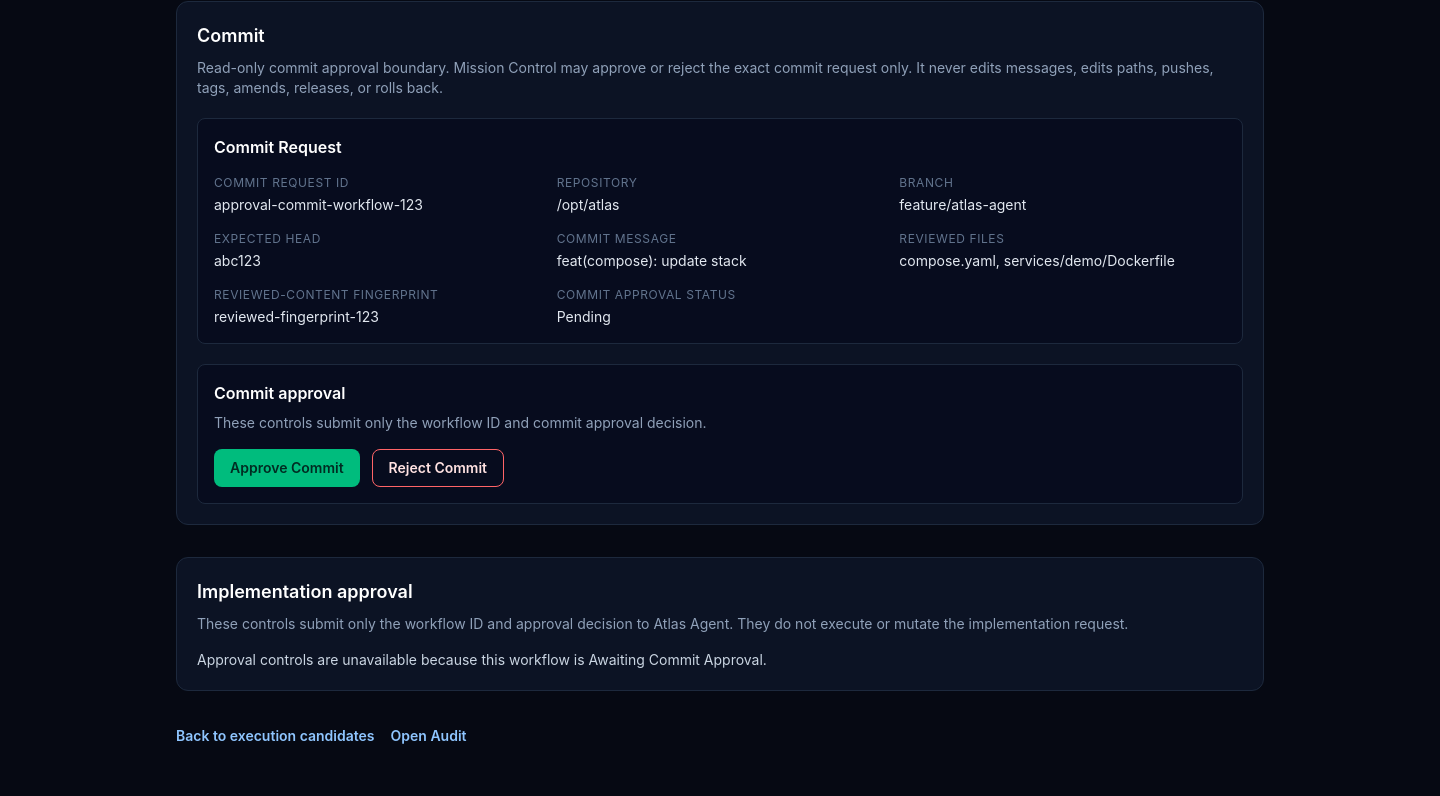
Test: WorkflowPage › hides commit controls after a commit approve response without state transition
(page scrolled)
Click the button "Approve Commit" at (287, 468), box [214,449,360,487]
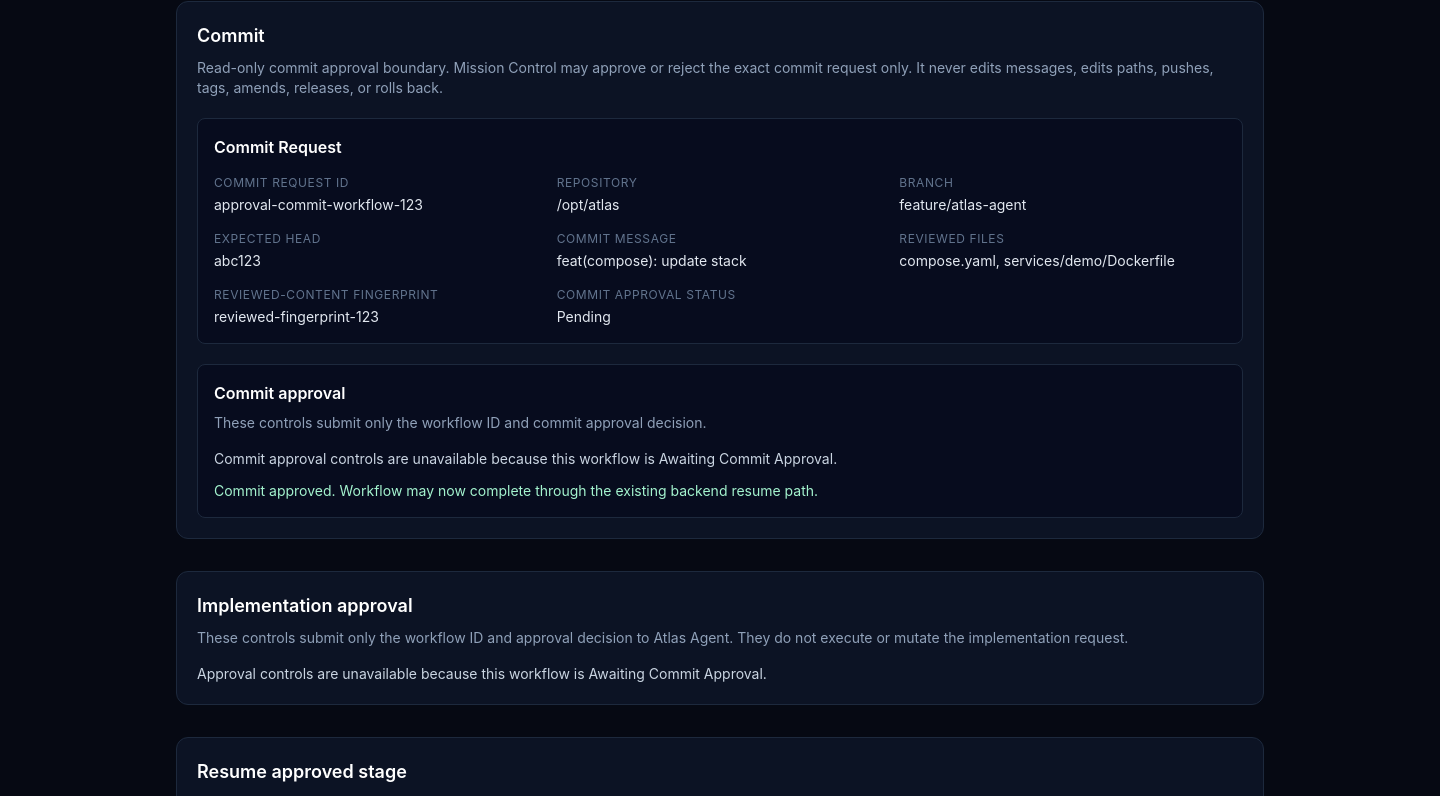
Expected: the text "Commit approved. Workflow may now complete through the existing backend resume path." is shown, [214,482,818,499]
Expected: the button "Approve Commit" is gone
Expected: the button "Reject Commit" is gone
